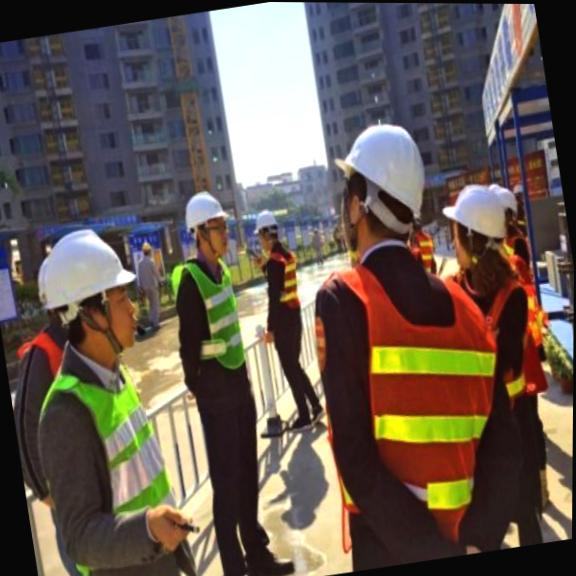safety_vest: (335, 249, 524, 565), (51, 357, 177, 553), (184, 257, 250, 376)
